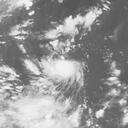cyclone: (43, 59, 84, 85)
